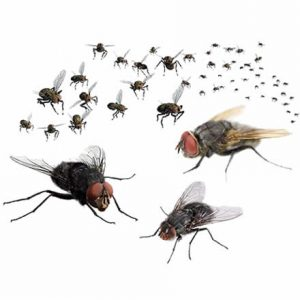fly: (3, 144, 142, 230), (174, 106, 295, 175), (140, 181, 241, 262), (151, 80, 187, 126), (34, 68, 67, 115), (69, 80, 99, 110), (154, 48, 184, 77), (65, 107, 93, 138), (120, 74, 151, 101), (104, 89, 130, 121), (128, 54, 153, 79), (68, 61, 90, 88), (110, 47, 134, 70), (86, 41, 113, 61), (39, 121, 62, 142)
